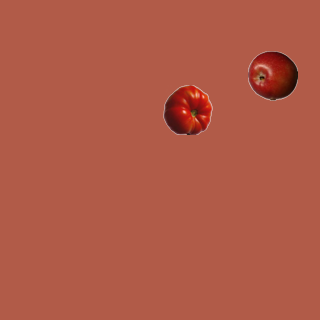Apple Braeburn: (247, 50, 297, 100)
Tomato 3: (162, 84, 212, 134)
